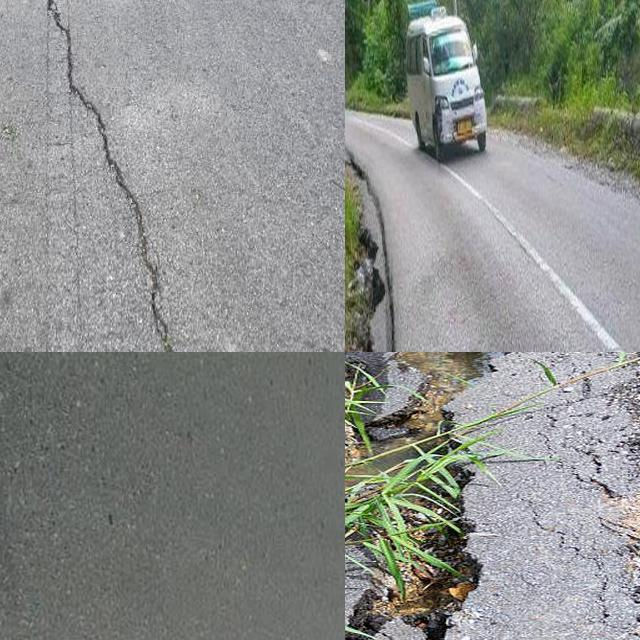Memanjang: (8, 0, 191, 352)
Pinggir: (345, 352, 518, 640), (345, 160, 436, 352)
